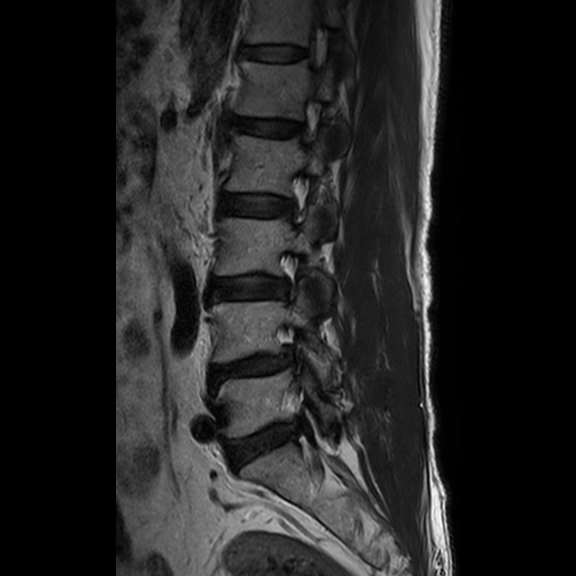LFS0: (278, 84, 329, 151), (269, 166, 319, 233)
LFS1: (265, 242, 312, 315)
